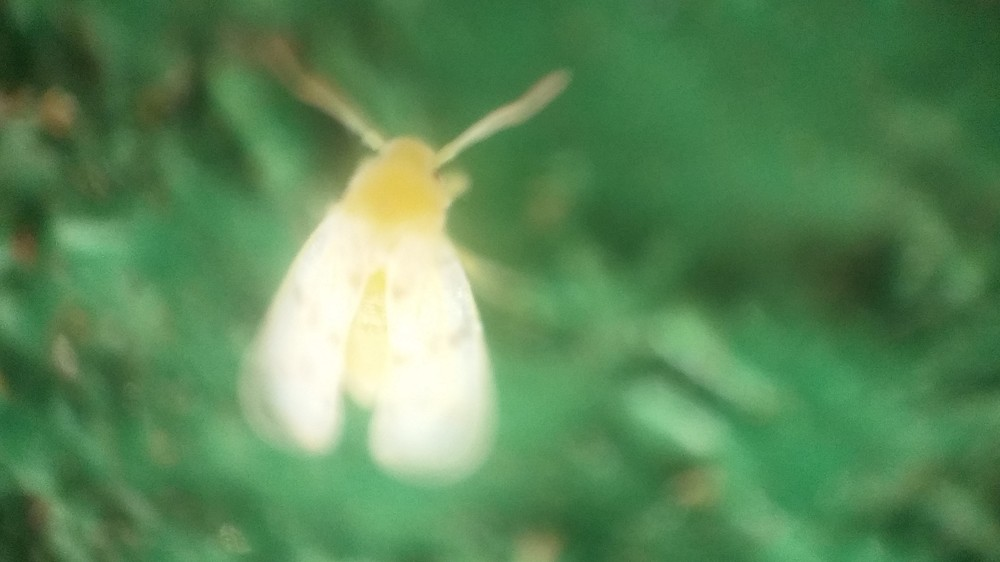Mosca Blanca: (219, 39, 587, 497)
